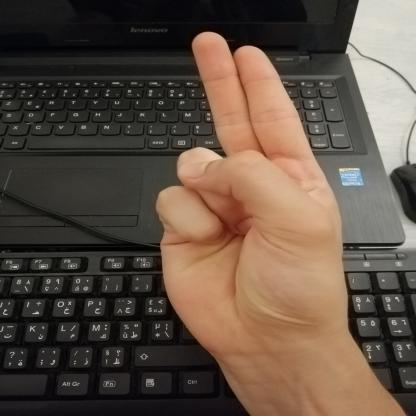TA: (141, 21, 362, 375)
